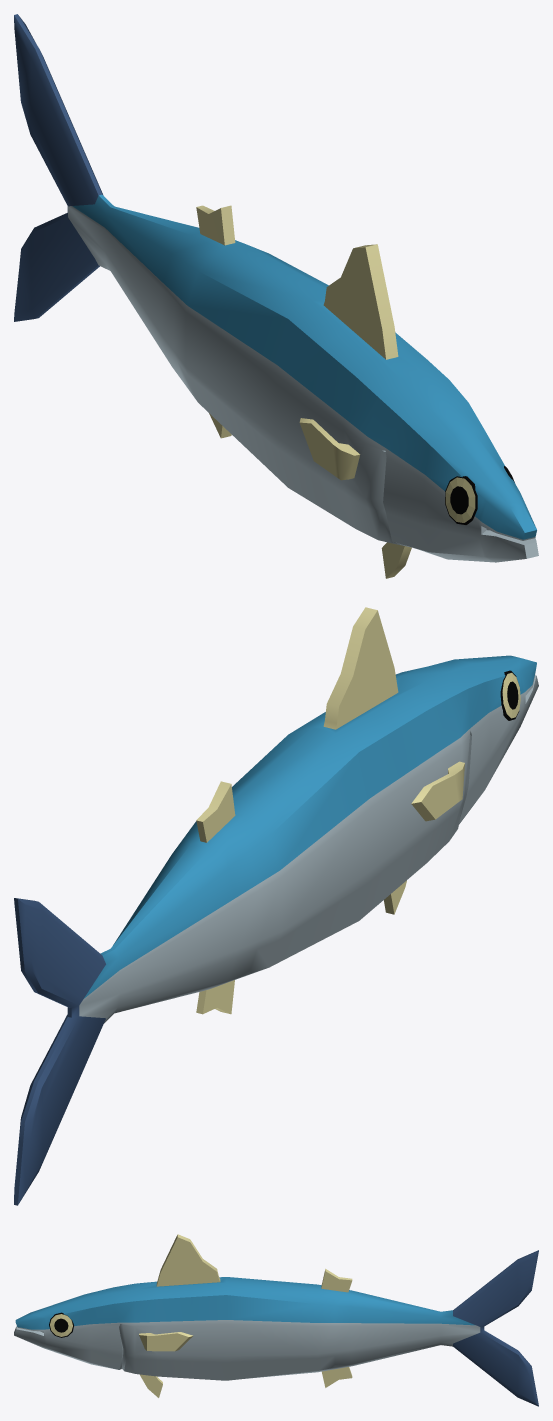
File: mackerel.fbx
The picture shows the model from 3 angles, top to bottom: view 1: azimuth 30°, elevation 25°; view 2: azimuth 150°, elevation 25°; view 3: azimuth 270°, elevation 25°; orthographic projection. The views are drawn at different scales.
Visible parts, largest first — view 1: Cube, Cylinder; view 2: Cube, Cylinder; view 3: Cube, Cylinder.
Part boxes in pixels (<box>): Cube: <box>14,14,538,578</box>; Cylinder: <box>445,466,514,524</box>; Cube: <box>14,607,538,1205</box>; Cylinder: <box>500,670,520,720</box>; Cube: <box>14,1234,538,1406</box>; Cylinder: <box>49,1312,73,1337</box>.
Size of the model in its own units: 34.75 by 91.67 by 256.
